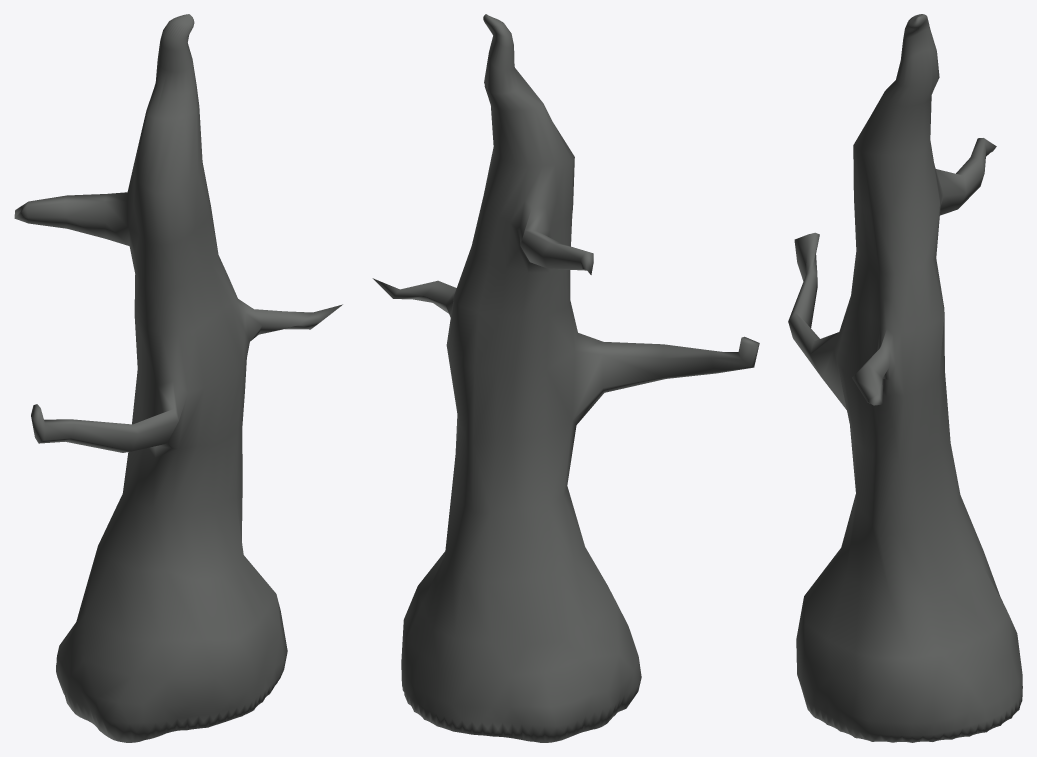
The model's file is deadTree2.fbx.
3 views of the same model, side by side, from view 1: azimuth 30°, elevation 25°; view 2: azimuth 150°, elevation 25°; view 3: azimuth 270°, elevation 25° (orthographic). The views are drawn at different scales.
Visible parts, largest first — view 1: Cylinder; view 2: Cylinder; view 3: Cylinder.
Part boxes in pixels (left/top/right/bottom): Cylinder: left=14, top=14, right=342, bottom=742; Cylinder: left=372, top=14, right=759, bottom=742; Cylinder: left=788, top=14, right=1022, bottom=742.
Bounding box in the file's own units: 175 × 98.83 × 328.
